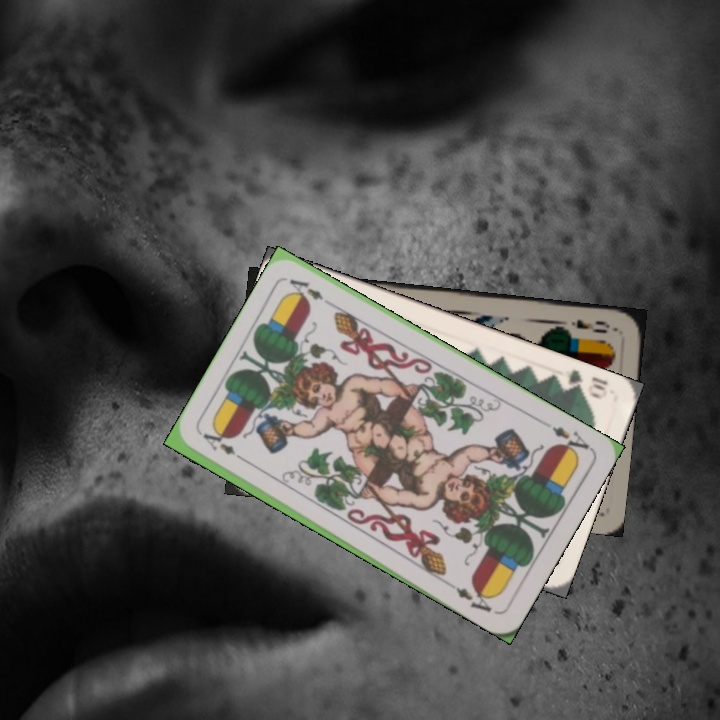EA: (539, 417, 593, 460), (199, 429, 251, 465)
EO: (567, 315, 613, 336)
G10: (554, 365, 611, 402)
